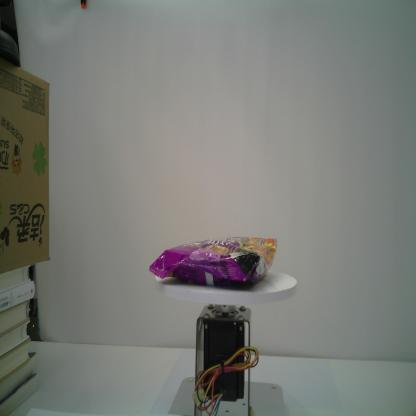Instant Noodles: (148, 234, 278, 287)
